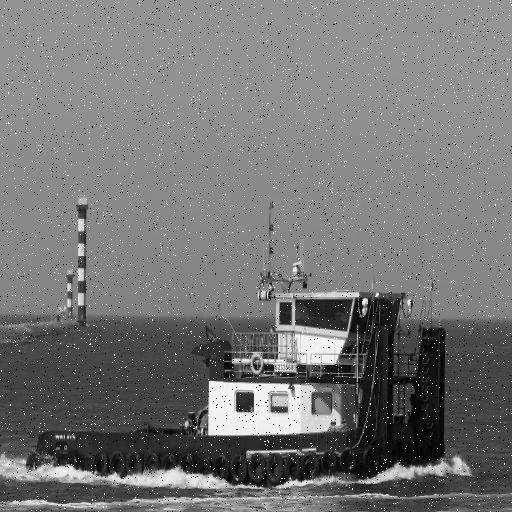tugboat: (23, 197, 449, 498)
